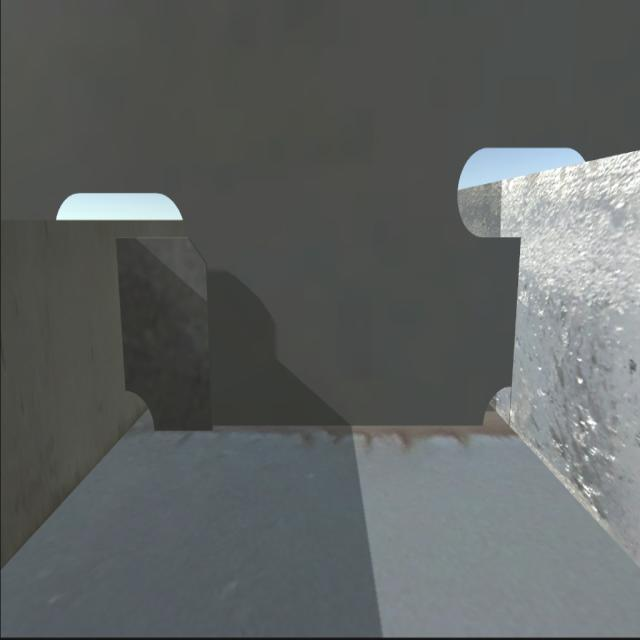fillet_hole: (474, 375, 514, 427), (122, 384, 158, 430)
fillet_yong_jeop_jang: (152, 414, 482, 436)
longi_yong_jeop_jang: (106, 236, 143, 386), (500, 232, 529, 391)
plate_CP03: (118, 234, 219, 435)
